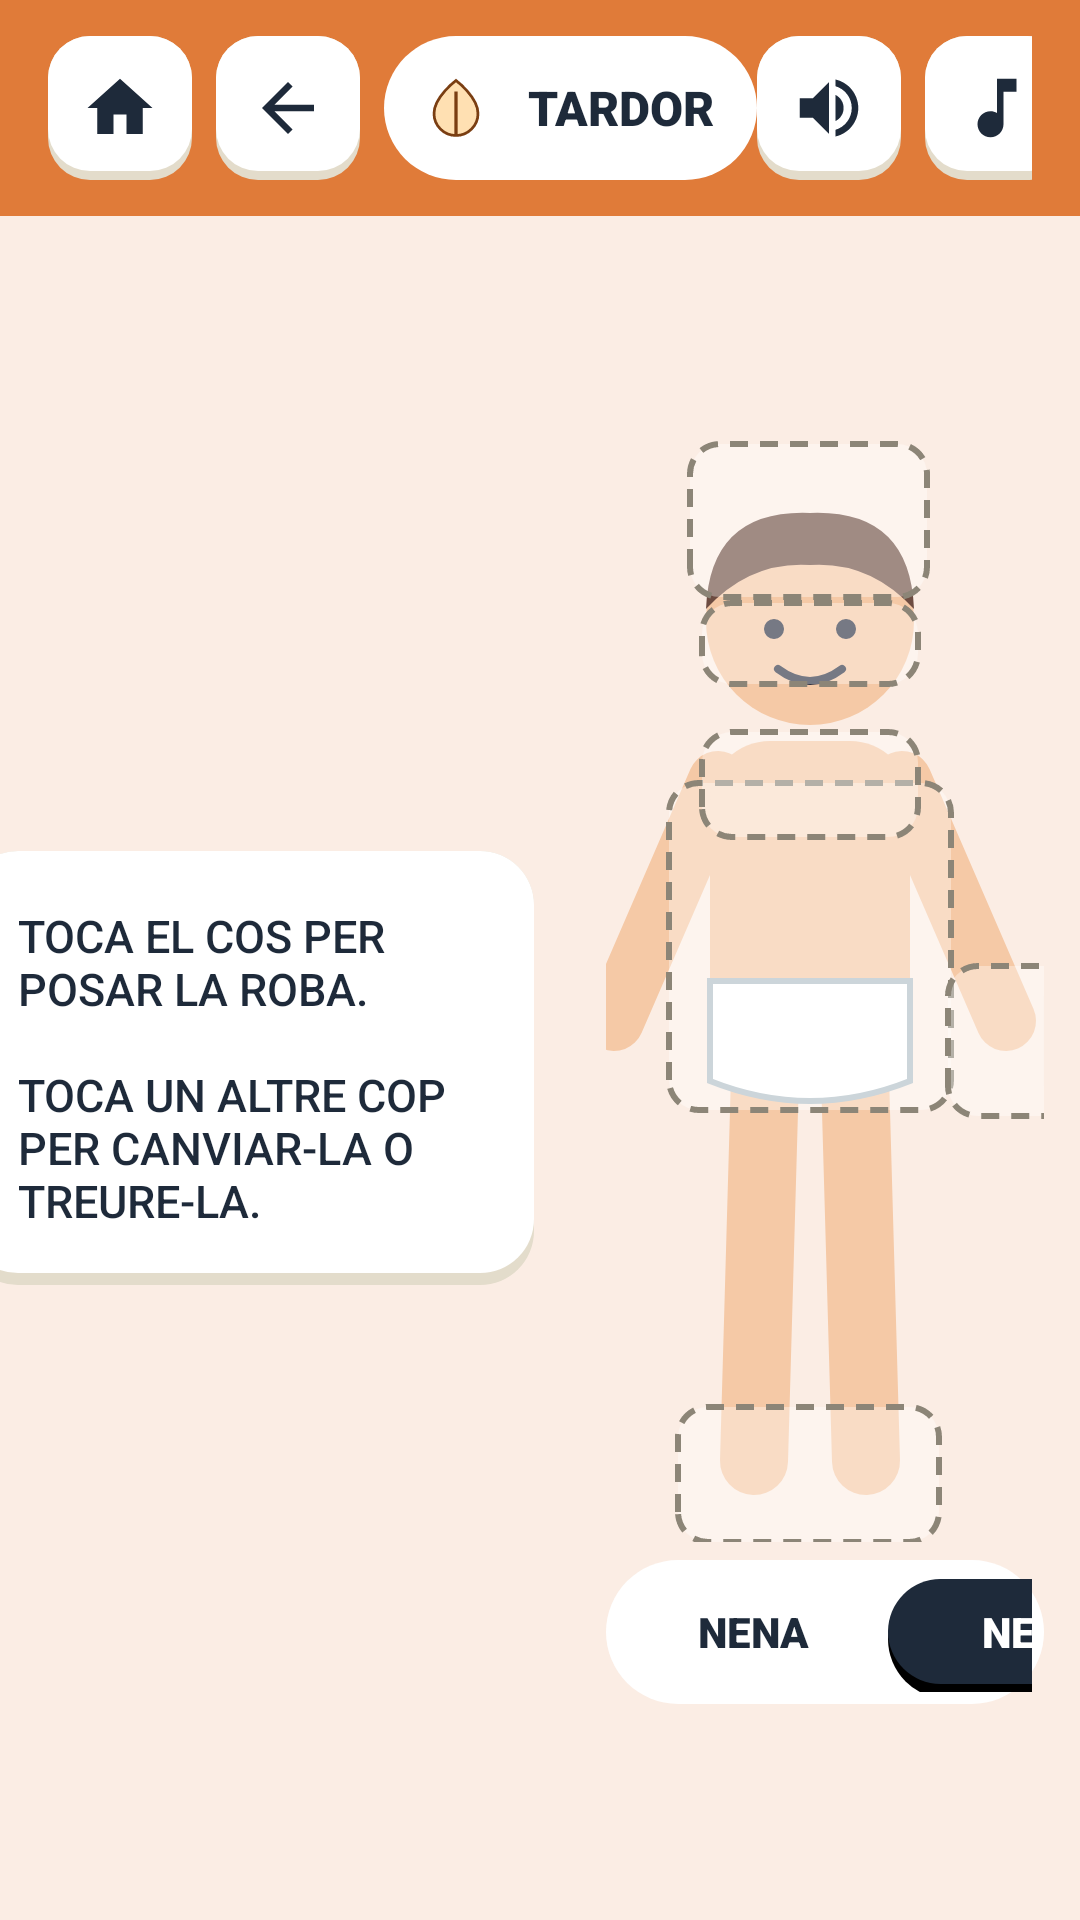

Locate icon controls on the screen. Image size 1080px x 1920px, boxes as (x1, y1, x2, y2).
Enrere: (216, 36, 360, 180)
Escoltar: (757, 36, 901, 180)
Inici: (48, 36, 192, 180)
Música: (925, 36, 1032, 180)
otono: (432, 79, 480, 137)
